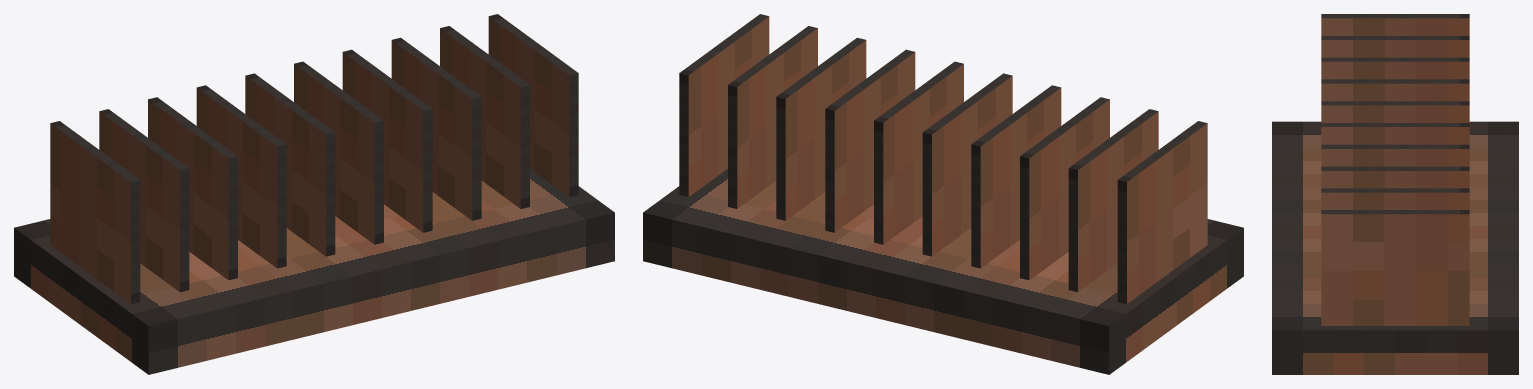
Rendered from discrack.obj.
3 views of the same model, side by side, from view 1: azimuth 30°, elevation 25°; view 2: azimuth 150°, elevation 25°; view 3: azimuth 270°, elevation 25° (orthographic). The views are drawn at different scales.
Visible parts, largest first — view 1: discRack; view 2: discRack; view 3: discRack.
Part boxes in pixels (x1,y1,x2,y2): discRack: (14,14,614,374); discRack: (643,14,1243,374); discRack: (1272,14,1518,374).
Bounding box in the file's own units: 1 × 0.35 × 0.5.
